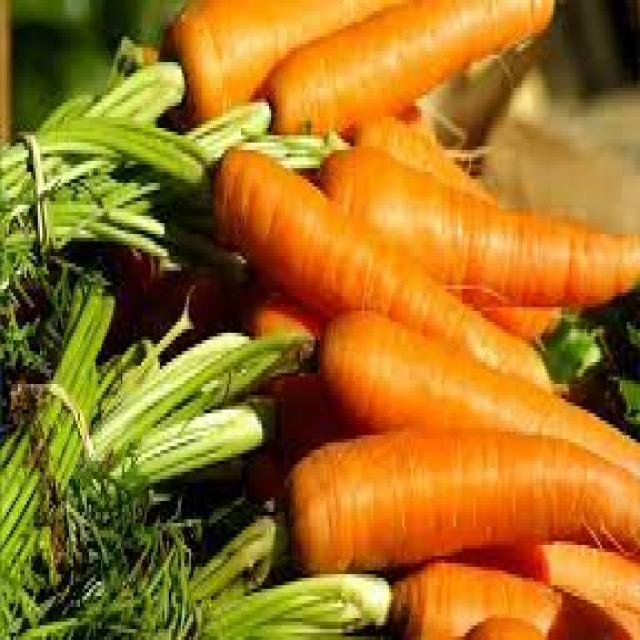Carrot: (289, 440, 640, 560)
